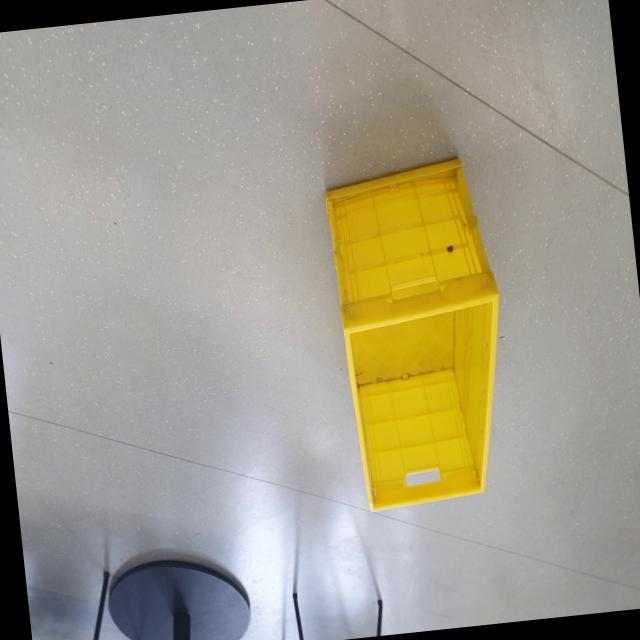box: (314, 158, 529, 519)
